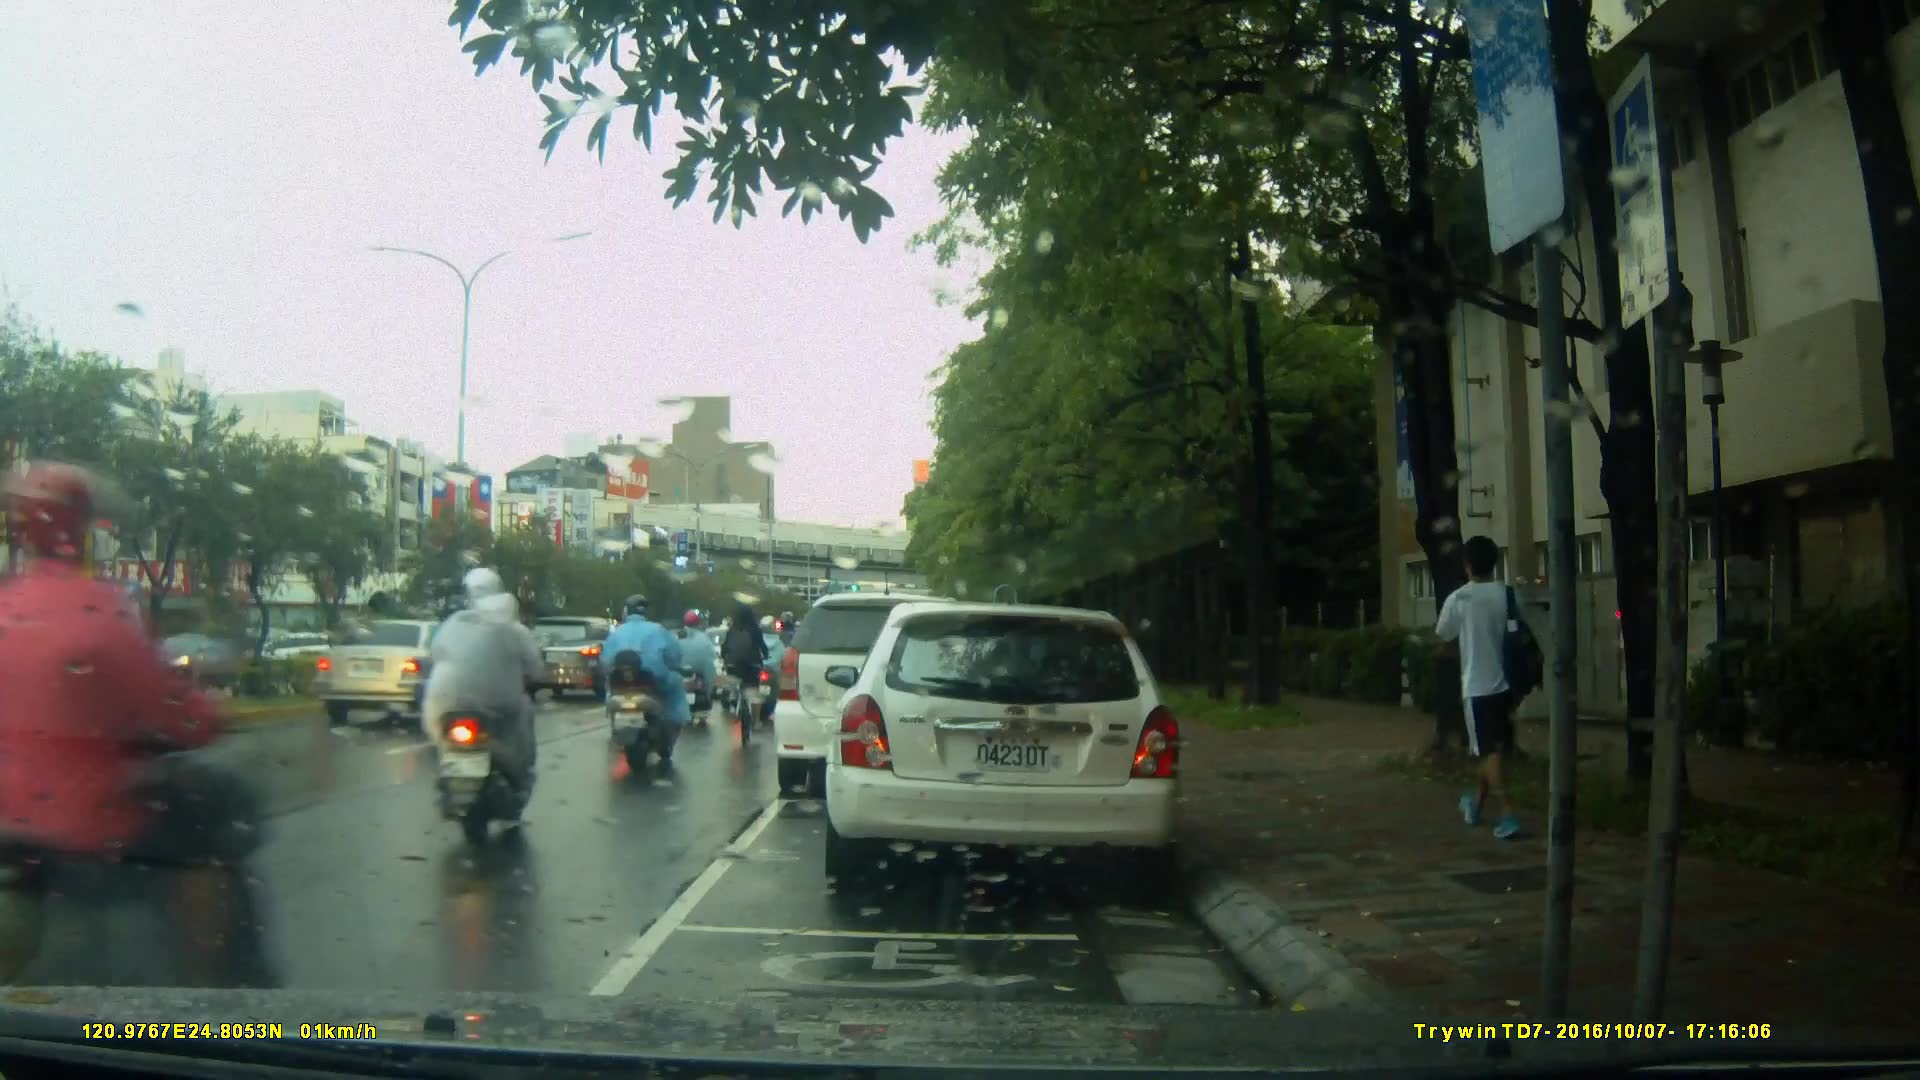pedestrian: (1445, 516, 1556, 870)
rider: (1, 457, 275, 1045), (430, 572, 550, 854), (609, 598, 691, 772), (413, 599, 480, 768), (721, 602, 773, 763), (665, 605, 720, 721), (748, 619, 792, 722), (714, 613, 758, 709)
vehicle: (822, 604, 1188, 882), (774, 595, 995, 802), (310, 617, 484, 728), (20, 576, 161, 697), (517, 615, 639, 705), (144, 630, 241, 686)
